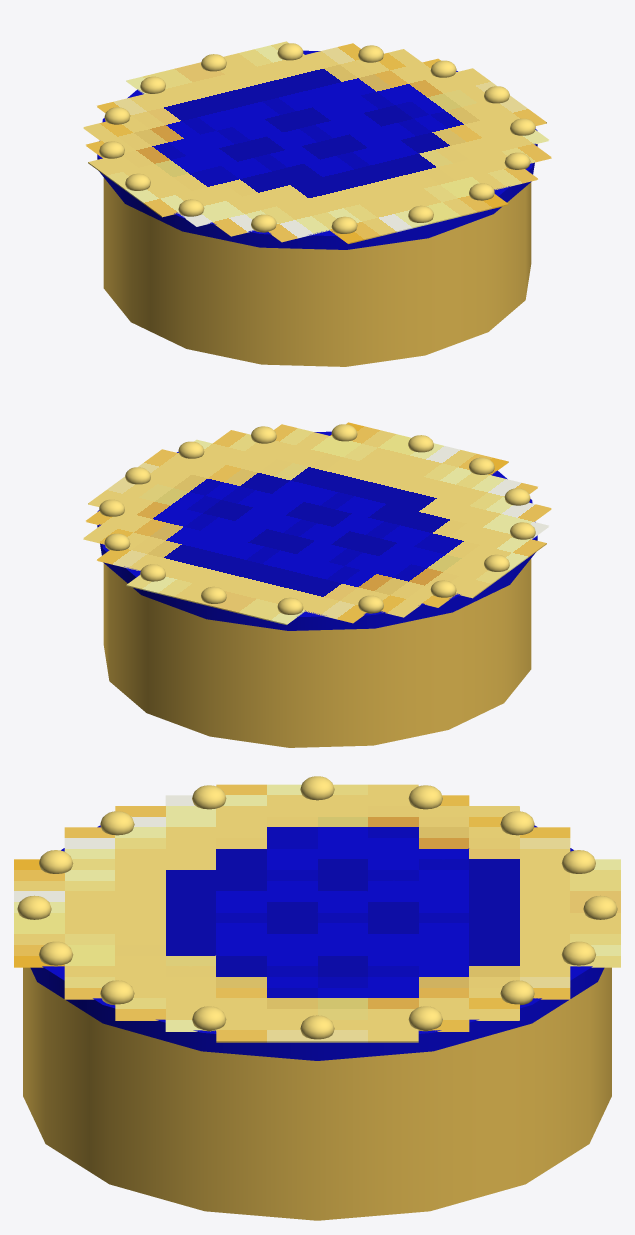
The model's file is CMU3DBakedCakeBlueberry.glb.
The picture shows the model from 3 angles, top to bottom: view 1: azimuth 30°, elevation 25°; view 2: azimuth 150°, elevation 25°; view 3: azimuth 270°, elevation 25°; orthographic projection. The views are drawn at different scales.
Parts seen in each view (by area): view 1: original top filling and decoration, whole cake crumb body, frosted top edge; view 2: original top filling and decoration, whole cake crumb body, frosted top edge; view 3: original top filling and decoration, whole cake crumb body, frosted top edge, piped frosting edge 2, piped frosting edge 3, piped frosting edge 15, piped frosting edge 16, piped frosting edge 4, piped frosting edge 14, piped frosting edge 5, piped frosting edge 7, piped frosting edge 11 (+7 smaller).
Boxes of the visible parts, left/top/right/bottom form: original top filling and decoration: left=83, top=41, right=551, bottom=243; whole cake crumb body: left=103, top=177, right=531, bottom=366; frosted top edge: left=97, top=50, right=537, bottom=249; original top filling and decoration: left=83, top=422, right=551, bottom=624; whole cake crumb body: left=103, top=558, right=531, bottom=747; frosted top edge: left=97, top=431, right=537, bottom=630; original top filling and decoration: left=14, top=784, right=620, bottom=1042; whole cake crumb body: left=23, top=967, right=611, bottom=1220; frosted top edge: left=30, top=825, right=604, bottom=1060; piped frosting edge 2: left=408, top=1006, right=442, bottom=1031; piped frosting edge 3: left=500, top=980, right=534, bottom=1005; piped frosting edge 15: left=100, top=980, right=134, bottom=1005; piped frosting edge 16: left=192, top=1006, right=226, bottom=1031; piped frosting edge 4: left=561, top=941, right=595, bottom=966; piped frosting edge 14: left=39, top=941, right=73, bottom=966; piped frosting edge 5: left=583, top=895, right=617, bottom=919; piped frosting edge 7: left=500, top=811, right=534, bottom=835; piped frosting edge 11: left=100, top=811, right=134, bottom=835.
Size of the model in its own units: 0.74 by 0.267 by 0.74.
5 materials, 1 textured.
